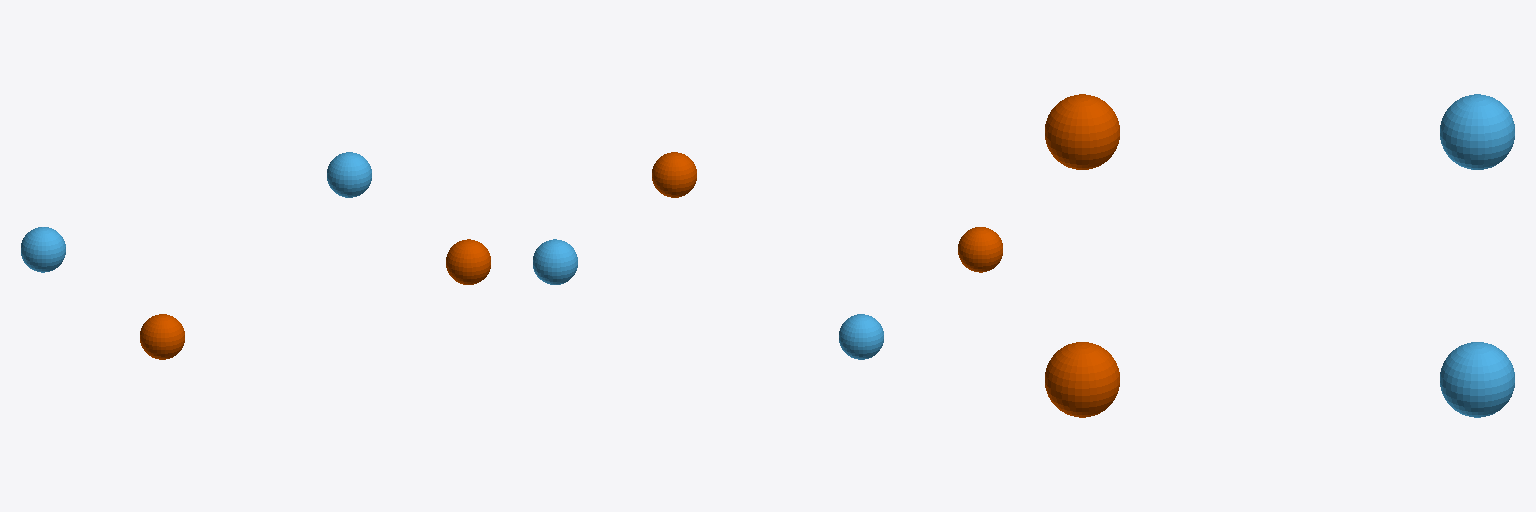
The robot description file, URDF, robot "blank_panther":
<?xml version="1.0" ?>
<robot name="blank_panther" xmlns:xacro="http://ros.org/wiki/xacro">
    
    <link name="body">
        <visual>
            <geometry>
                <mesh filename="meshes/bp_body.obj"/>
                <!--mesh filename="meshes/bp_body.dae"/-->
            </geometry>
            <origin rpy="0.0 0.0 0.0" xyz="0.0 0.0 0.0"/>
        </visual>
        <inertial>
            <mass value="2.955"/>
            <!-- <mass value="8.3"/> -->
            <origin xyz="0.0 0.0 -0.003"/>
            <inertia ixx="0.013355" ixy="0" ixz="0" iyy="0.040234" iyz="0" izz="0.048945"/>
        </inertial>
        <collision>
            <origin rpy="0 0 0" xyz="0 0 0"/>
            <geometry>
                <box size="0.3, 0.2 0.1"/>
            </geometry>
        </collision>
    </link>

    <link name="dummy_mass">
        <inertial>
            <!--mass value="2.955"/-->
            <mass value="0"/>
            <!-- <mass value="8.3"/> -->
            <origin xyz="0.0 0.0 -0.003"/>
            <!--inertia ixx="0.013355" ixy="0" ixz="0" iyy="0.040234" iyz="0" izz="0.048945"/-->
            <inertia ixx="0.0" ixy="0" ixz="0" iyy="0.0" iyz="0" izz="0.0"/>
        </inertial>
    </link>
    
    <joint name="mass2body" type="fixed">
        <origin xyz="0 0 0" rpy="0 0 0"/>
        <parent link="body"/>
        <child link="dummy_mass"/>
    </joint>

    <!--!!!!!!!!!!!!!!!!!!!! Front Right Leg !!!!!!!!!!!!!!!!!!!!-->

    <joint name="torso_to_abduct_fr_j" type="continuous">
        <axis xyz="1 0 0"/>
        <origin rpy="0 0 0" xyz="0.212 -0.058 0.0"/>
        <parent link="body"/>
        <child link="abduct_fr"/>
        <limit effort="18" lower="-6.28" upper="6.28" velocity="25"/>
        <dynamics damping="0.01" friction="0.2"/>
    </joint>

    <link name="abduct_fr">
        <inertial>
            <mass value="0.54"/>
            <origin xyz="0.058 -0.00485 0."/>
            <inertia ixx="0.000391" ixy="0.000000" ixz="0.000000"
                     iyy="0.000739" iyz="0.000000" izz="0.000488"/>
        </inertial>
        <visual>
            <geometry>
                <mesh filename="meshes/bp_abad_fr.obj"/>
            </geometry>
            <origin rpy="0 0 0" xyz="-0.063 0.0 0.0"/>
        </visual>
    </link>

    <joint name="abduct_fr_to_thigh_fr_j" type="continuous">
        <axis xyz="0 -1 0"/>
        <origin rpy="0.0 0.0 0.0" xyz="0.0 -0.085 0.00"/>
        <parent link="abduct_fr"/>
        <child link="thigh_fr"/>
        <limit effort="18" lower="-6.28" upper="6.28" velocity="25"/>
        <dynamics damping="0.01" friction="0.2"/>
    </joint>

    <link name="thigh_fr">
        <inertial>
            <mass value="0.636"/>
            <origin xyz="0.0 0.019 -0.01865"/>
            <inertia ixx="0.001724" ixy="0.0" ixz="0.0"
                     iyy="0.001907" iyz="0.000228" izz="0.000468"/>
        </inertial>
        <visual>
            <geometry>
                <mesh filename="meshes/bp_upper_fr.obj"/>
            </geometry>
            <origin rpy="0.0 0.0 0.0" xyz="0.0 0.0 0.0"/>
        </visual>
    </link>

    <joint name="thigh_fr_to_knee_fr_j" type="continuous">
        <axis xyz="0 -1 0"/>
        <origin rpy="0.0 0 0.0" xyz="0.0 0.0 -0.201"/>
        <parent link="thigh_fr"/>
        <child link="shank_fr"/>
        <limit effort="27" lower="-6.28" upper="6.28" velocity="17"/>
        <dynamics damping="0.01" friction="0.2"/>
    </joint>

    <link name="shank_fr">
        <inertial>
            <mass value="0.064"/>
            <origin xyz="0.0 0.0 -0.0865"/>
            <inertia ixx="0.000716" ixy="0" ixz="0.0" iyy="0.000721" iyz="0" izz="0.000012"/>
        </inertial>
        <visual>
            <geometry>
                <mesh filename="meshes/bp_lower.obj"/>
            </geometry>
            <origin rpy="0.0 3.14 0.0" xyz="0.0 0.0 0.0"/>
        </visual>
    </link>

    <link name="toe_fr">
        <contact>
            <friction_anchor/>
            <stiffness value="30000.0"/>
            <damping value="1000.0"/>
            <spinning_friction value="0.3"/>
            <lateral_friction value="3.0"/>
        </contact>
        <visual>
            <origin rpy="0 0 0" xyz="0 0 0"/>
            <geometry>
                <sphere radius="0.0275"/>
            </geometry>
            <material name="darkgray"/>
        </visual>
        <collision>
            <origin rpy="0 0 0" xyz="0 0 0"/>
            <geometry>
                <sphere radius="0.0275"/>
            </geometry>
        </collision>
        <inertial>
            <mass value="0.15"/>
<!--            <mass value="0.005"/>-->
            <inertia ixx="0.000025" ixy="0" ixz="0" iyy="0.000025" iyz="0" izz="0.000025"/>
        </inertial>
    </link>

    <joint name="toe_fr_joint" type="fixed">
        <parent link="shank_fr"/>
        <child link="toe_fr"/>
        <origin xyz="0 0 -0.19"/>
        <dynamics damping="0.0" friction="0.0"/>
    </joint>

    <!--!!!!!!!!!!!!!!!!!!!! Front Left Leg !!!!!!!!!!!!!!!!!!!!-->

    <joint name="torso_to_abduct_fl_j" type="continuous">
        <axis xyz="1 0 0"/>
        <origin rpy="0 0 0" xyz="0.212 0.058 0.0"/>
        <parent link="body"/>
        <child link="abduct_fl"/>
        <limit effort="18" lower="-6.28" upper="6.28" velocity="25"/>
        <dynamics damping="0.01" friction="0.2"/>
    </joint>

    <link name="abduct_fl">
        <inertial>
            <mass value="0.54"/>
            <origin xyz="0.058 0.00485 0."/>
            <inertia ixx="0.000391" ixy="0.000000" ixz="0.000000"
                     iyy="0.000739" iyz="0.000000" izz="0.000488"/>
        </inertial>
        <visual>
            <geometry>
                <mesh filename="meshes/bp_abad_fl.obj"/>
            </geometry>
            <origin rpy="0 0 0" xyz="-0.063 0.0 0.0"/>
        </visual>
    </link>

    <joint name="abduct_fl_to_thigh_fl_j" type="continuous">
        <axis xyz="0 -1 0"/>
        <origin rpy="0.0 0.0 0.0" xyz="0.0 0.085 0.00"/>
        <parent link="abduct_fl"/>
        <child link="thigh_fl"/>
        <limit effort="18" lower="-6.28" upper="6.28" velocity="25"/>
        <dynamics damping="0.01" friction="0.2"/>
    </joint>

    <link name="thigh_fl">
        <inertial>
            <mass value="0.636"/>
            <origin xyz="0.0 -0.019 -0.01865"/>
            <inertia ixx="0.001724" ixy="0.0" ixz="0.0"
                     iyy="0.001907" iyz="-0.000228" izz="0.000468"/>
        </inertial>
        <visual>
            <geometry>
                <mesh filename="meshes/bp_upper_fl.obj"/>
            </geometry>
            <origin rpy="0.0 0.0 0.0" xyz="0.0 0.0 0.0"/>
        </visual>
    </link>

    <joint name="thigh_fl_to_knee_fl_j" type="continuous">
        <axis xyz="0 -1 0"/>
        <origin rpy="0.0 0 0.0" xyz="0.0 0.0 -0.201"/>
        <parent link="thigh_fl"/>
        <child link="shank_fl"/>
        <limit effort="27" lower="-6.28" upper="6.28" velocity="17"/>
        <dynamics damping="0.01" friction="0.2"/>
    </joint>

    <link name="shank_fl">
        <inertial>
            <mass value="0.064"/>
            <origin xyz="0.0 0.0 -0.0865"/>
            <inertia ixx="0.000716" ixy="0" ixz="0.0" iyy="0.000721" iyz="0" izz="0.000012"/>
        </inertial>
        <visual>
            <geometry>
                <mesh filename="meshes/bp_lower.obj"/>
            </geometry>
            <origin rpy="0.0 3.14 0.0" xyz="0.0 0.0 0.0"/>
        </visual>
    </link>

    <link name="toe_fl">
        <contact>
            <friction_anchor/>
            <stiffness value="30000.0"/>
            <damping value="1000.0"/>
            <spinning_friction value="0.3"/>
            <lateral_friction value="3.0"/>
        </contact>
        <visual>
            <origin rpy="0 0 0" xyz="0 0 0"/>
            <geometry>
                <sphere radius="0.0275"/>
            </geometry>
            <material name="darkgray"/>
        </visual>
        <collision>
            <origin rpy="0 0 0" xyz="0 0 0"/>
            <geometry>
                <sphere radius="0.0275"/>
            </geometry>
        </collision>
        <inertial>
            <mass value="0.15"/>
<!--            <mass value="0.005"/>-->
            <inertia ixx="0.000025" ixy="0" ixz="0" iyy="0.000025" iyz="0" izz="0.000025"/>
        </inertial>
    </link>

    <joint name="toe_fl_joint" type="fixed">
        <parent link="shank_fl"/>
        <child link="toe_fl"/>
        <origin xyz="0 0 -0.19"/>
        <dynamics damping="0.0" friction="0.0"/>
    </joint>

    <!--!!!!!!!!!!!!!!!!!!!! Hind Right Leg !!!!!!!!!!!!!!!!!!!!-->

    <joint name="torso_to_abduct_hr_j" type="continuous">
        <axis xyz="1 0 0"/>
        <origin rpy="0 0 0" xyz="-0.212 -0.058 0.0"/>
        <parent link="body"/>
        <child link="abduct_hr"/>
        <limit effort="18" lower="-6.28" upper="6.28" velocity="25"/>
        <dynamics damping="0.01" friction="0.2"/>
    </joint>

    <link name="abduct_hr">
        <inertial>
            <mass value="0.54"/>
            <origin xyz="-0.058 -0.00485 0."/>
            <inertia ixx="0.000391" ixy="0.000000" ixz="0.000000"
                     iyy="0.000739" iyz="0.000000" izz="0.000488"/>
        </inertial>
        <visual>
            <geometry>
                <mesh filename="meshes/bp_abad_rr.obj"/>
            </geometry>
            <origin rpy="0 0 0" xyz="0.063 0.0 0.0"/>
        </visual>
    </link>

    <joint name="abduct_hr_to_thigh_hr_j" type="continuous">
        <axis xyz="0 -1 0"/>
        <origin rpy="0.0 0.0 0.0" xyz="0.0 -0.085 0.00"/>
        <parent link="abduct_hr"/>
        <child link="thigh_hr"/>
        <limit effort="18" lower="-6.28" upper="6.28" velocity="25"/>
        <dynamics damping="0.01" friction="0.2"/>
    </joint>

    <link name="thigh_hr">
        <inertial>
            <mass value="0.636"/>
            <origin xyz="0.0 0.019 -0.01865"/>
            <inertia ixx="0.001724" ixy="0.0" ixz="0.0"
                     iyy="0.001907" iyz="0.000228" izz="0.000468"/>
        </inertial>
        <visual>
            <geometry>
                <mesh filename="meshes/bp_upper_fr.obj"/>
            </geometry>
            <origin rpy="0.0 0.0 0.0" xyz="0.0 0.0 0.0"/>
        </visual>
    </link>

    <joint name="thigh_hr_to_knee_hr_j" type="continuous">
        <axis xyz="0 -1 0"/>
        <origin rpy="0.0 0 0.0" xyz="0.0 0.0 -0.201"/>
        <parent link="thigh_hr"/>
        <child link="shank_hr"/>
        <limit effort="27" lower="-6.28" upper="6.28" velocity="17"/>
        <dynamics damping="0.01" friction="0.2"/>
    </joint>

    <link name="shank_hr">
        <inertial>
            <mass value="0.064"/>
            <origin xyz="0.0 0.0 -0.0865"/>
            <inertia ixx="0.000716" ixy="0" ixz="0.0" iyy="0.000721" iyz="0" izz="0.000012"/>
        </inertial>
        <visual>
            <geometry>
                <mesh filename="meshes/bp_lower.obj"/>
            </geometry>
            <origin rpy="0.0 3.14 0.0" xyz="0.0 0.0 0.0"/>
        </visual>
    </link>

    <link name="toe_hr">
        <contact>
            <friction_anchor/>
            <stiffness value="30000.0"/>
            <damping value="1000.0"/>
            <spinning_friction value="0.3"/>
            <lateral_friction value="3.0"/>
        </contact>
        <visual>
            <origin rpy="0 0 0" xyz="0 0 0"/>
            <geometry>
                <sphere radius="0.0275"/>
            </geometry>
            <material name="darkgray"/>
        </visual>
        <collision>
            <origin rpy="0 0 0" xyz="0 0 0"/>
            <geometry>
                <sphere radius="0.0275"/>
            </geometry>
        </collision>
        <inertial>
            <mass value="0.15"/>
<!--            <mass value="0.005"/>-->
            <inertia ixx="0.000025" ixy="0" ixz="0" iyy="0.000025" iyz="0" izz="0.000025"/>
        </inertial>
    </link>

    <joint name="toe_hr_joint" type="fixed">
        <parent link="shank_hr"/>
        <child link="toe_hr"/>
        <origin xyz="0 0 -0.19"/>
        <dynamics damping="0.0" friction="0.0"/>
    </joint>

    <!--!!!!!!!!!!!!!!!!!!!! Hind Left Leg !!!!!!!!!!!!!!!!!!!!-->

    <joint name="torso_to_abduct_hl_j" type="continuous">
        <axis xyz="1 0 0"/>
        <origin rpy="0 0 0" xyz="-0.212 0.058 0.0"/>
        <parent link="body"/>
        <child link="abduct_hl"/>
        <limit effort="18" lower="-6.28" upper="6.28" velocity="25"/>
        <dynamics damping="0.01" friction="0.2"/>
    </joint>

    <link name="abduct_hl">
        <inertial>
            <mass value="0.54"/>
            <origin xyz="-0.058 0.00485 0."/>
            <inertia ixx="0.000391" ixy="0.000000" ixz="0.000000"
                     iyy="0.000739" iyz="0.000000" izz="0.000488"/>
        </inertial>
        <visual>
            <geometry>
                <mesh filename="meshes/bp_abad_rl.obj"/>
            </geometry>
            <origin rpy="0 0 0" xyz="0.063 0.0 0.0"/>
        </visual>
    </link>

    <joint name="abduct_hl_to_thigh_hl_j" type="continuous">
        <axis xyz="0 -1 0"/>
        <origin rpy="0.0 0.0 0.0" xyz="0.0 0.085 0.00"/>
        <parent link="abduct_hl"/>
        <child link="thigh_hl"/>
        <limit effort="18" lower="-6.28" upper="6.28" velocity="25"/>
        <dynamics damping="0.01" friction="0.2"/>
    </joint>

    <link name="thigh_hl">
        <inertial>
            <mass value="0.636"/>
            <origin xyz="0.0 -0.019 -0.01865"/>
            <inertia ixx="0.001724" ixy="0.0" ixz="0.0"
                     iyy="0.001907" iyz="-0.000228" izz="0.000468"/>
        </inertial>
        <visual>
            <geometry>
                <mesh filename="meshes/bp_upper_fl.obj"/>
            </geometry>
            <origin rpy="0.0 0.0 0.0" xyz="0.0 0.0 0.0"/>
        </visual>
    </link>

    <joint name="thigh_hl_to_knee_hl_j" type="continuous">
        <axis xyz="0 -1 0"/>
        <origin rpy="0.0 0 0.0" xyz="0.0 0.0 -0.201"/>
        <parent link="thigh_hl"/>
        <child link="shank_hl"/>
        <limit effort="27" lower="-6.28" upper="6.28" velocity="17"/>
        <dynamics damping="0.01" friction="0.2"/>
    </joint>

    <link name="shank_hl">
        <inertial>
            <mass value="0.064"/>
            <origin xyz="0.0 0.0 -0.0865"/>
            <inertia ixx="0.000716" ixy="0" ixz="0.0" iyy="0.000721" iyz="0" izz="0.000012"/>
        </inertial>
        <visual>
            <geometry>
                <mesh filename="meshes/bp_lower.obj"/>
            </geometry>
            <origin rpy="0.0 3.14 0.0" xyz="0.0 0.0 0.0"/>
        </visual>
    </link>

    <link name="toe_hl">
        <contact>
            <friction_anchor/>
            <stiffness value="30000.0"/>
            <damping value="1000.0"/>
            <spinning_friction value="0.3"/>
            <lateral_friction value="3.0"/>
        </contact>
        <visual>
            <origin rpy="0 0 0" xyz="0 0 0"/>
            <geometry>
                <sphere radius="0.0275"/>
            </geometry>
            <material name="darkgray"/>
        </visual>
        <collision>
            <origin rpy="0 0 0" xyz="0 0 0"/>
            <geometry>
                <sphere radius="0.0275"/>
            </geometry>
        </collision>
        <inertial>
            <mass value="0.15"/>
<!--            <mass value="0.005"/>-->
            <inertia ixx="0.000025" ixy="0" ixz="0" iyy="0.000025" iyz="0" izz="0.000025"/>
        </inertial>
    </link>

    <joint name="toe_hl_joint" type="fixed">
        <parent link="shank_hl"/>
        <child link="toe_hl"/>
        <origin xyz="0 0 -0.19"/>
        <dynamics damping="0.0" friction="0.0"/>
    </joint>

</robot>

--- Render facts (derived) ---
The picture shows the robot from 3 angles, left to right: view 1: azimuth 30°, elevation 25°; view 2: azimuth 150°, elevation 25°; view 3: azimuth 270°, elevation 25°; orthographic projection.
Robot: blank_panther — 18 links, 17 joints (12 continuous, 5 fixed); root link body; default pose: all joints at 0.
Visible links, largest first — view 1: toe_fr, toe_hl, toe_fl, toe_hr; view 2: toe_fl, toe_hr, toe_fr, toe_hl; view 3: toe_fr, toe_fl, toe_hr, toe_hl.
Boxes of the visible links, x1,y1,x2,y2 form: toe_fr: [446, 239, 490, 284]; toe_hl: [21, 227, 65, 272]; toe_fl: [327, 152, 371, 197]; toe_hr: [140, 314, 184, 359]; toe_fl: [533, 239, 577, 284]; toe_hr: [958, 227, 1002, 272]; toe_fr: [652, 152, 696, 197]; toe_hl: [839, 314, 883, 359]; toe_fr: [1045, 342, 1119, 417]; toe_fl: [1440, 342, 1514, 417]; toe_hr: [1045, 94, 1119, 169]; toe_hl: [1440, 94, 1514, 169].
Size in the robot's own frame: 0.479 by 0.341 by 0.055 metres.
Meshes: 8 distinct files referenced, 0 mesh visuals loaded (none loaded); not drawn: 13 (reference not matched to a file when rendering).